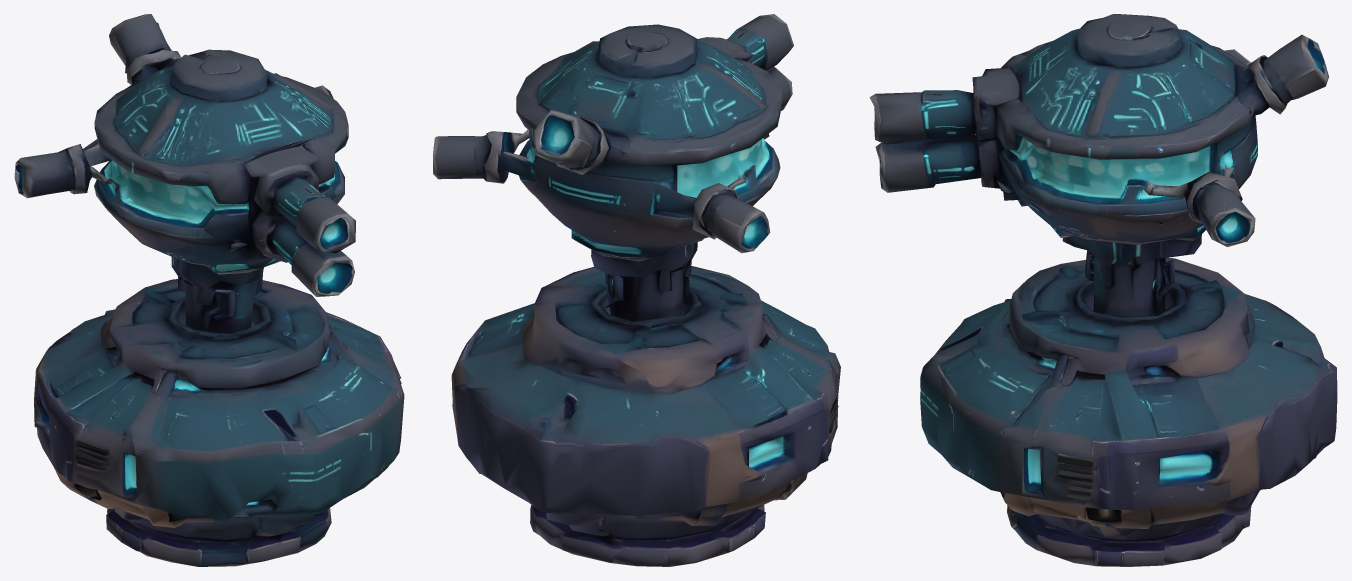
The model's file is 5631a1e3-7cdc-4e63-b415-0fd7e6658eb6-pbr-model.glb.
3 views of the same model, side by side, from view 1: azimuth 30°, elevation 25°; view 2: azimuth 150°, elevation 25°; view 3: azimuth 270°, elevation 25° (orthographic). The views are drawn at different scales.
Parts seen in each view (by area): view 1: tripo_node_5631a1e3-7cdc-4e63-b415-0fd7e6658eb6; view 2: tripo_node_5631a1e3-7cdc-4e63-b415-0fd7e6658eb6; view 3: tripo_node_5631a1e3-7cdc-4e63-b415-0fd7e6658eb6.
Part boxes in pixels (left/top/right/bottom): tripo_node_5631a1e3-7cdc-4e63-b415-0fd7e6658eb6: left=14, top=14, right=404, bottom=566; tripo_node_5631a1e3-7cdc-4e63-b415-0fd7e6658eb6: left=433, top=14, right=840, bottom=566; tripo_node_5631a1e3-7cdc-4e63-b415-0fd7e6658eb6: left=869, top=14, right=1337, bottom=566.
Size of the model in its own units: 0.7417 by 1 by 0.8628.
1 material, 1 textured.
